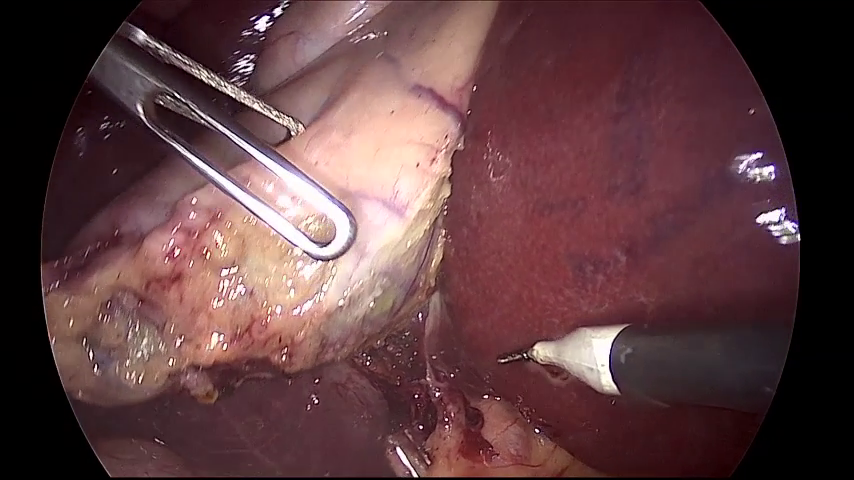grasper: (89, 21, 357, 260)
lhook: (497, 316, 794, 413)
